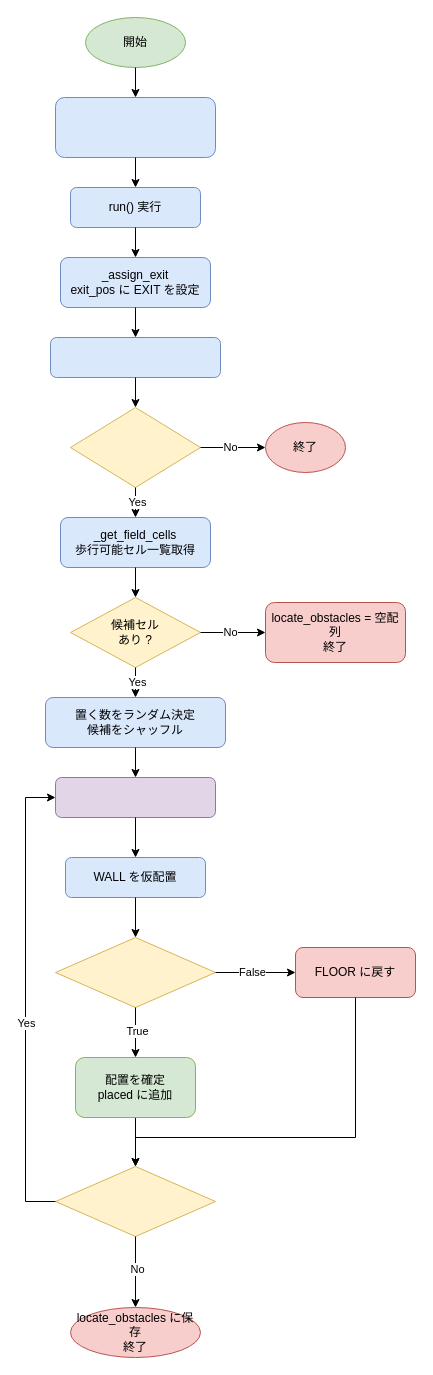
This 433x1375 diagram has some shape labels left out. Each missing label, with the centre of its shape:
_assign_obstacles 呼び出し: point 135,357
_is_connected 接続性チェック: point 135,972
CreateMap 初期化 外周を壁にしたフィールド作成: point 135,127
obstacle_mode == "random" ?: point 135,447
各候補セルをループ: point 135,797
次の候補あり ?: point 135,1201
